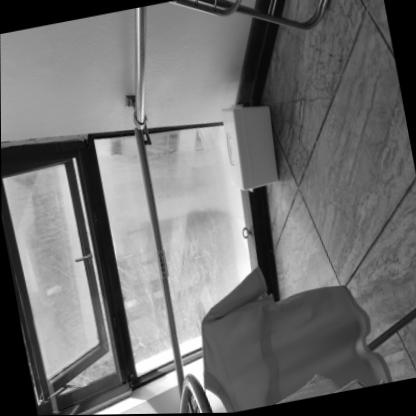DDL: (215, 98, 283, 197)
